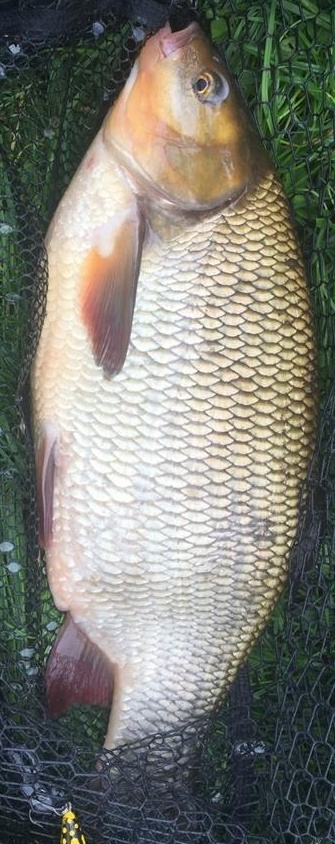Leuciscus idus: (20, 20, 315, 824)
